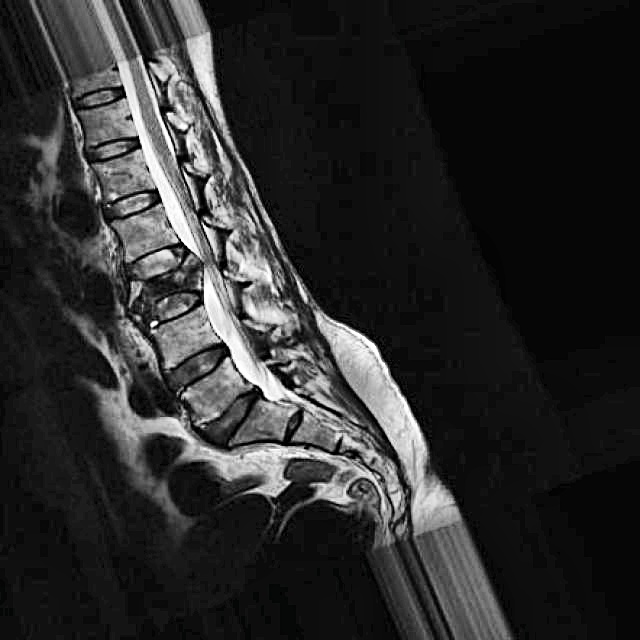Comminuted: (119, 237, 210, 327)
